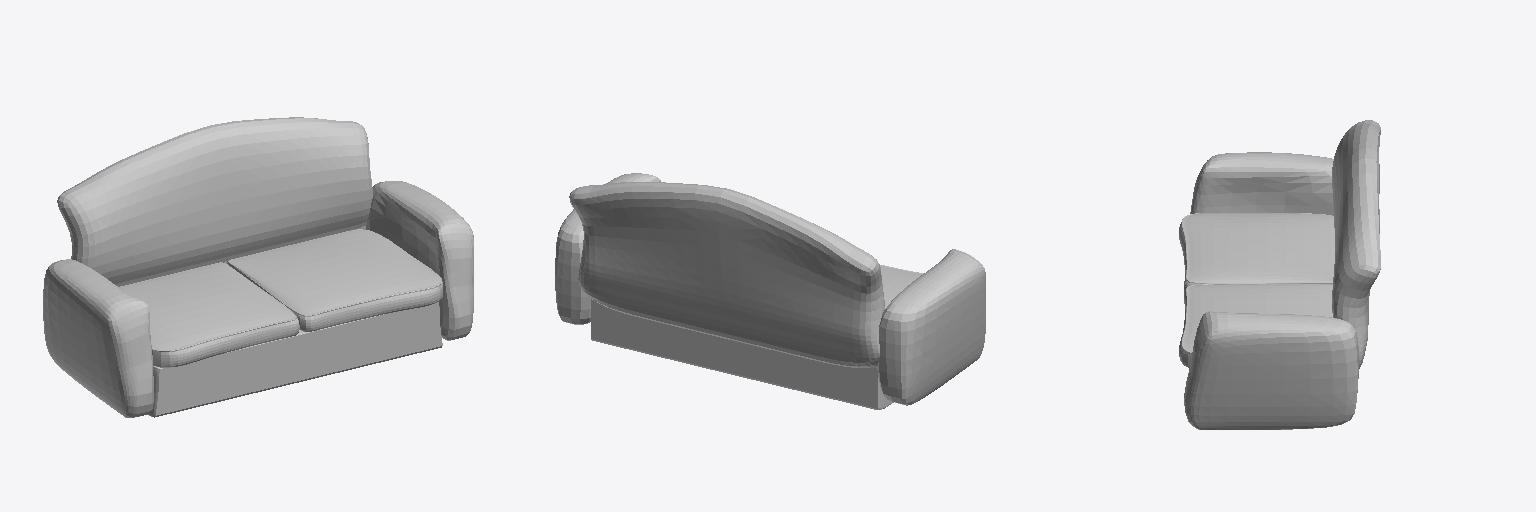
The model's file is simple_sofa2.obj.
The picture shows the model from 3 angles: view 1: azimuth 30°, elevation 25°; view 2: azimuth 150°, elevation 25°; view 3: azimuth 270°, elevation 25°; orthographic projection.
Visible parts, largest first — view 1: sofa_Cube_Material.004; view 2: sofa_Cube_Material.004; view 3: sofa_Cube_Material.004.
Boxes of the visible parts, x1,y1,x2,y2 form: sofa_Cube_Material.004: [43, 117, 473, 417]; sofa_Cube_Material.004: [555, 173, 985, 409]; sofa_Cube_Material.004: [1179, 120, 1380, 429].
Bounding box in the file's own units: 16.66 × 8.4 × 7.9.